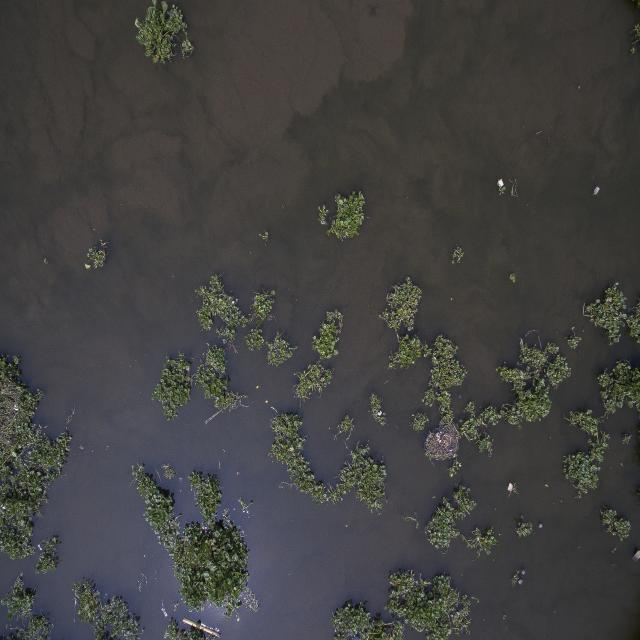Plastic: (632, 546, 638, 564), (495, 179, 504, 189), (507, 480, 513, 494), (593, 185, 600, 196)
